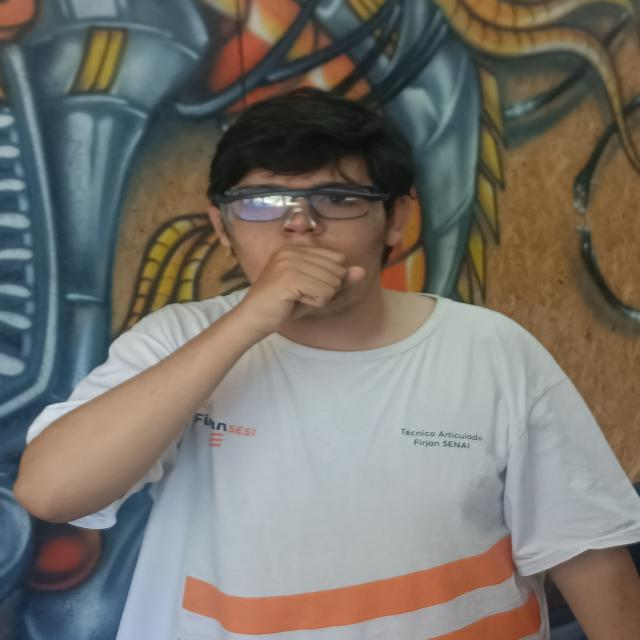oculos-epi: (216, 189, 393, 233)
